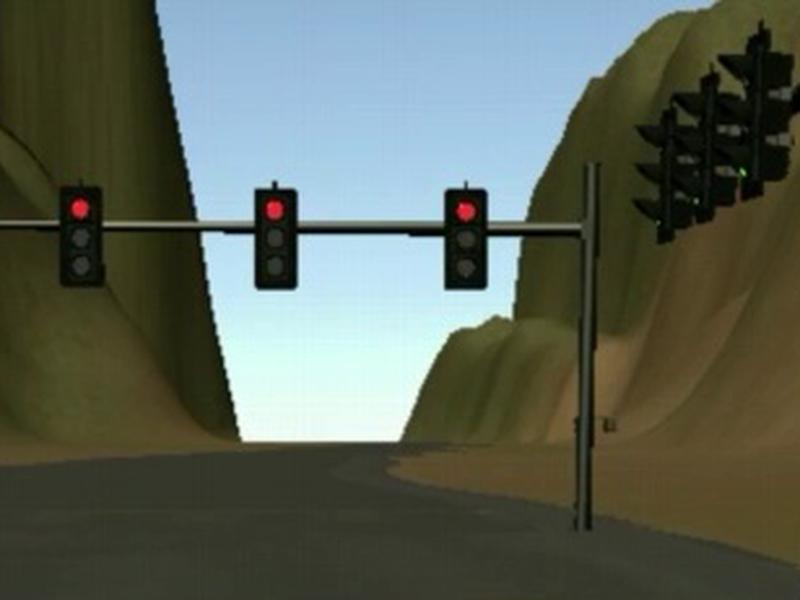Red: (254, 189, 298, 289), (445, 187, 488, 289), (61, 186, 104, 286)
